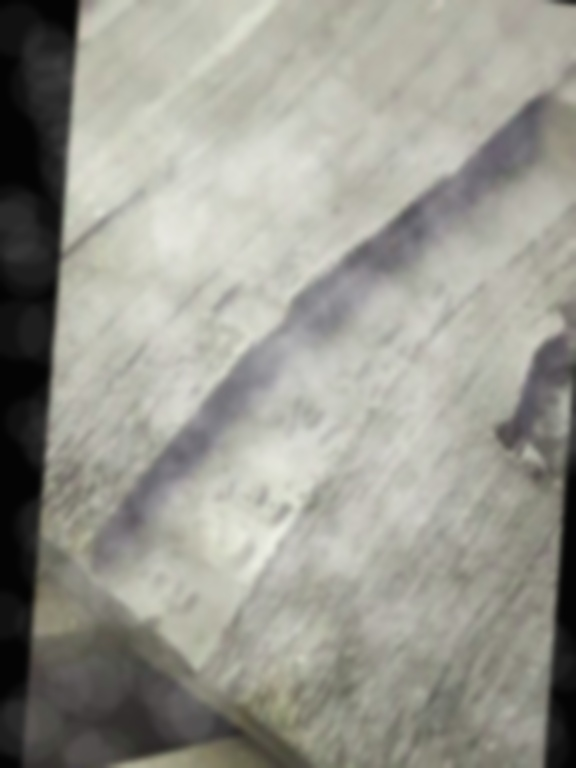temoin:0: (195, 244, 318, 379)
